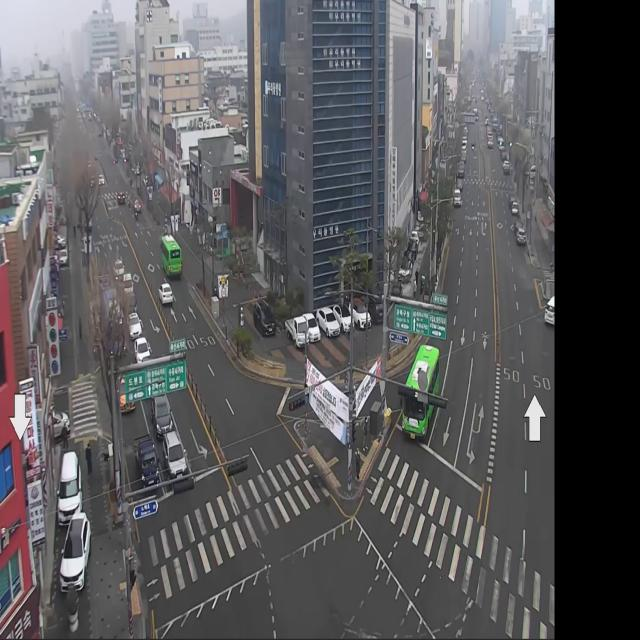bus: (134, 209, 139, 220), (128, 197, 131, 209)
car: (403, 342, 439, 437), (101, 288, 124, 356), (161, 234, 182, 276)
motorcycle: (60, 513, 90, 601), (58, 454, 82, 520), (164, 432, 186, 483), (253, 300, 276, 338), (316, 305, 341, 339), (151, 394, 172, 433), (116, 375, 136, 413), (285, 316, 308, 349), (333, 301, 355, 335), (302, 312, 321, 344), (544, 292, 555, 330), (135, 339, 150, 363), (127, 313, 141, 338), (158, 284, 174, 304), (126, 293, 138, 313), (114, 260, 124, 280), (123, 273, 132, 293), (517, 228, 525, 246), (116, 192, 125, 206), (134, 199, 142, 214), (454, 190, 461, 207), (514, 221, 522, 234), (512, 202, 518, 217), (509, 197, 516, 208), (457, 178, 462, 189)
truck: (135, 432, 156, 490)
